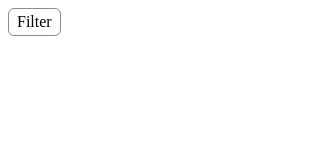
Test: FilterBox (spec filter §3, §5) › opens a group of labelled checkboxes with their counts, sorted by label
The image size is (320, 160).
Click the button "Filter" at (34, 22), box 8,8 -> 61,36
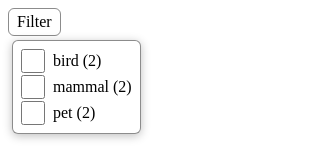
Now the element named "Filter" is shown, box 12,40 -> 141,134
